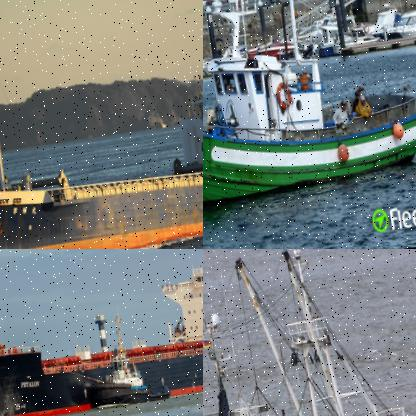Fishing Boat: (203, 0, 415, 220), (203, 249, 415, 415)
Merchant Ship: (0, 0, 202, 248), (0, 249, 202, 415)
Patrol Boat: (76, 305, 170, 410)
